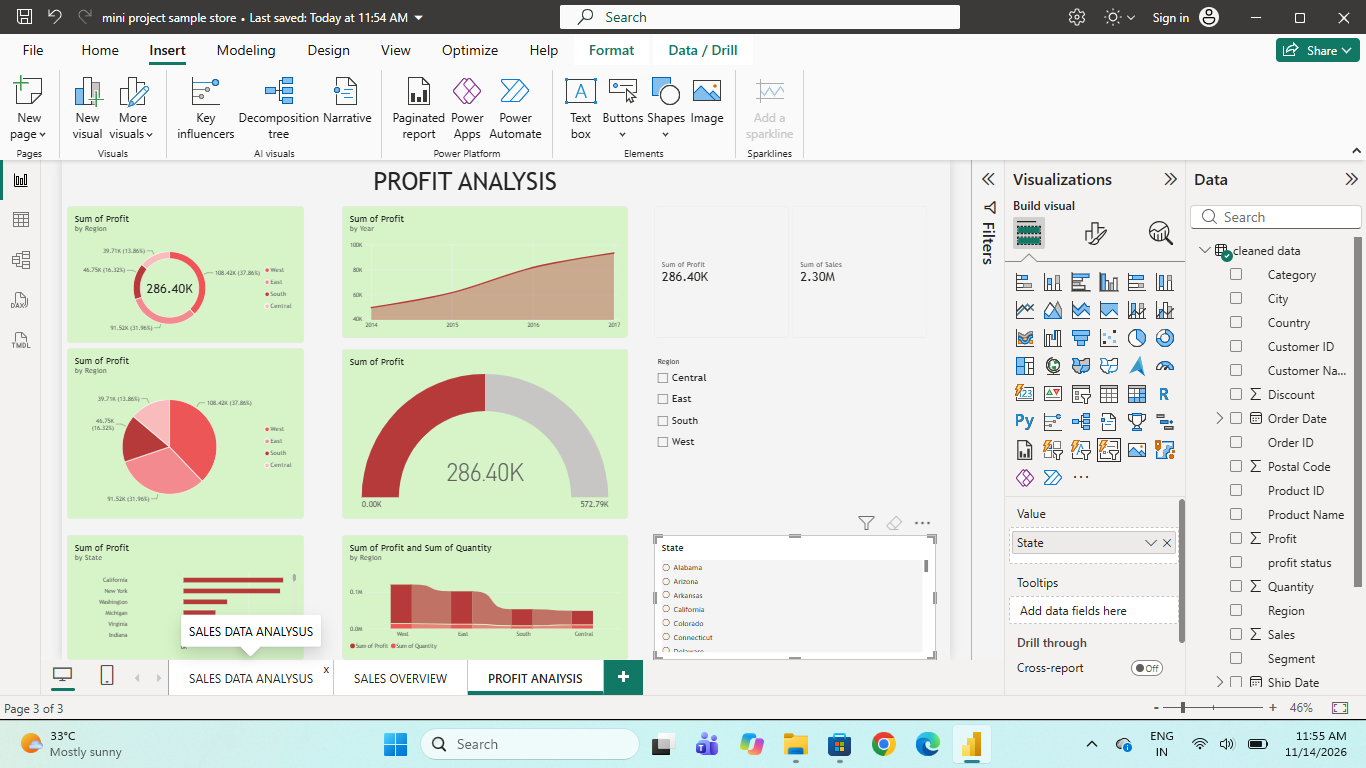

This screenshot's page, from the dashboard's own definition file:
{"tool":"powerbi","page":{"name":"PROFIT ANAlYSIS","canvas":[1920,1080],"ordinal":2},"visuals":[{"type":"donutChart","fields":{"Category":["cleaned data.Region"],"Y":["Sum(cleaned data.Profit)"]},"box":[10.8,99.4,511.9,295.9],"z":0},{"type":"pieChart","fields":{"Category":["cleaned data.Segment"],"Y":["Sum(cleaned data.Profit)"]},"box":[10.8,406.1,511.9,369.4],"z":1000},{"type":"clusteredBarChart","fields":{"Category":["cleaned data.State"],"Y":["Sum(cleaned data.Profit)"]},"box":[11,810,512,270],"z":2000},{"type":"stackedAreaChart","fields":{"Category":["cleaned data.Order Date.Variation.Date Hierarchy.Year","cleaned data.Order Date.Variation.Date Hierarchy.Quarter","cleaned data.Order Date.Variation.Date Hierarchy.Month","cleaned data.Order Date.Variation.Date Hierarchy.Day"],"Y":["Sum(cleaned data.Profit)"]},"box":[604.8,99.4,617.8,285.1],"z":3000},{"type":"gauge","fields":{"Y":["Sum(cleaned data.Profit)"]},"box":[604.8,408.2,617.8,367.2],"z":4000},{"type":"ribbonChart","fields":{"Category":["cleaned data.Region"],"Y":["Sum(cleaned data.Profit)","Sum(cleaned data.Quantity)"]},"box":[604.8,810,617.8,270],"z":5000},{"type":"cardVisual","fields":{"Data":["Sum(cleaned data.Profit)","Sum(cleaned data.Sales)"]},"box":[1278.7,99.4,591.8,285.1],"z":6000},{"type":"slicer","fields":{"Values":["cleaned data.Region"]},"box":[1278.7,425.5,591.8,349.9],"z":7000},{"type":"listSlicer","fields":{"Values":["cleaned data.State"]},"box":[1278.7,810,609.1,270],"z":8000},{"type":"textbox","box":[550,312.2,300,150],"z":8002},{"type":"textbox","box":[550.8,15.1,639.4,149],"z":8003}]}

Visuals, with their boxes on the page's 1920x1080 design canvas (x1, y1, x2, y2). These are canvas units, not pixel positions in the 1366x768 screenshot, which may show the page scaled, cropped or inside an application window:
donutChart - cleaned data.Region x Sum(cleaned data.Profit): region(11, 99, 523, 395)
pieChart - cleaned data.Segment x Sum(cleaned data.Profit): region(11, 406, 523, 776)
clusteredBarChart - cleaned data.State x Sum(cleaned data.Profit): region(11, 810, 523, 1080)
stackedAreaChart - cleaned data.Order Date.Variation.Date Hierarchy.Year x cleaned data.Order Date.Variation.Date Hierarchy.Quarter: region(605, 99, 1223, 384)
gauge - Sum(cleaned data.Profit): region(605, 408, 1223, 775)
ribbonChart - cleaned data.Region x Sum(cleaned data.Profit): region(605, 810, 1223, 1080)
cardVisual - Sum(cleaned data.Profit) x Sum(cleaned data.Sales): region(1279, 99, 1870, 384)
slicer - cleaned data.Region: region(1279, 426, 1870, 775)
listSlicer - cleaned data.State: region(1279, 810, 1888, 1080)
textbox: region(550, 312, 850, 462)
textbox: region(551, 15, 1190, 164)
